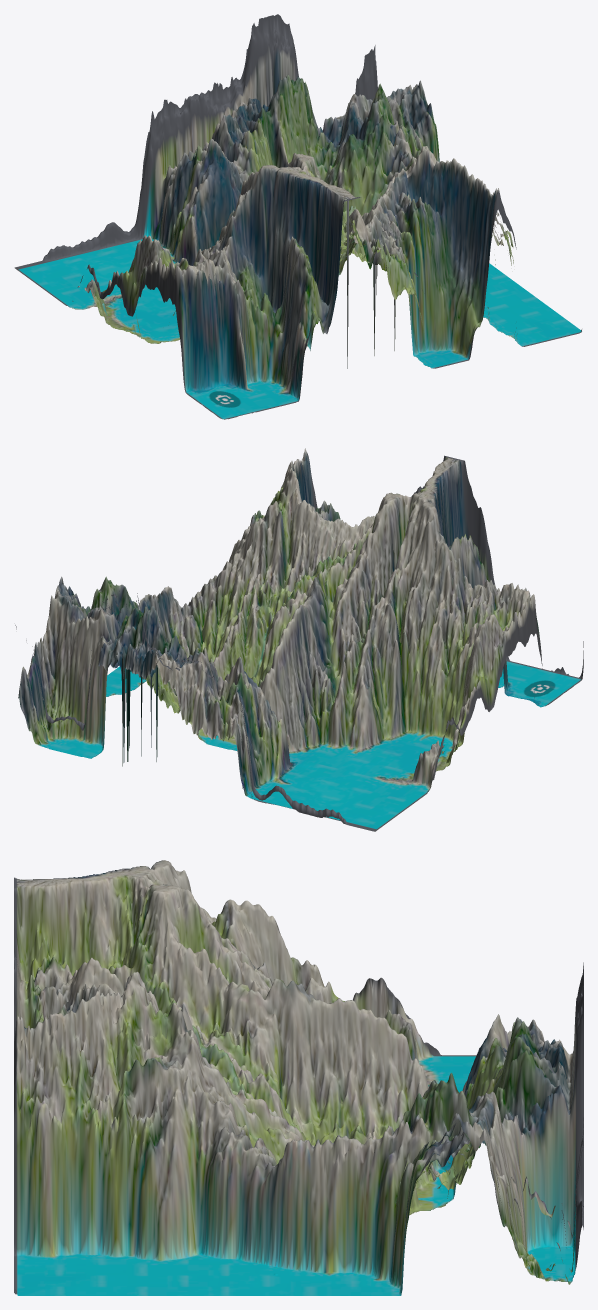
The model's file is dsm_4b73e23a68_mesh.glb.
3 renders of one model, top to bottom at view 1: azimuth 30°, elevation 25°; view 2: azimuth 150°, elevation 25°; view 3: azimuth 270°, elevation 25°, orthographic. The views are drawn at different scales.
Parts seen in each view (by area): view 1: geometry_0; view 2: geometry_0; view 3: geometry_0.
Part boxes in pixels (x1,y1,x2,y2): geometry_0: (14, 14, 581, 419); geometry_0: (15, 448, 583, 831); geometry_0: (14, 860, 583, 1295).
Size of the model in its own units: 2 by 1 by 2.
